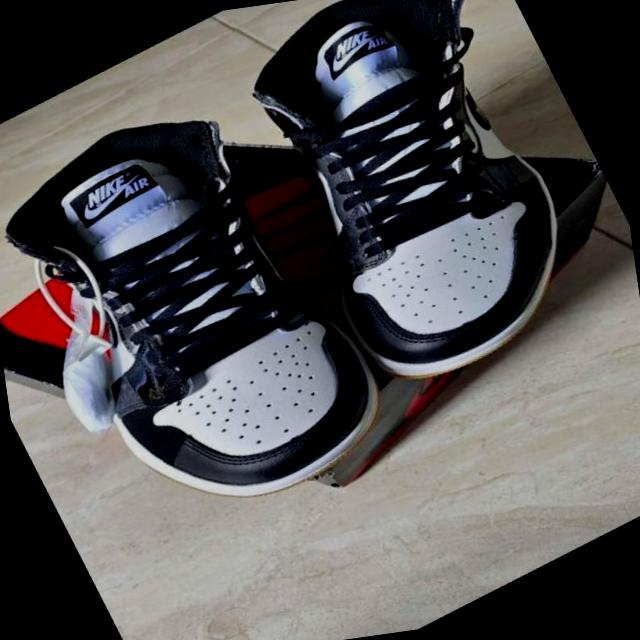nike_fake_jordan: (0, 56, 414, 567), (202, 0, 625, 426)
